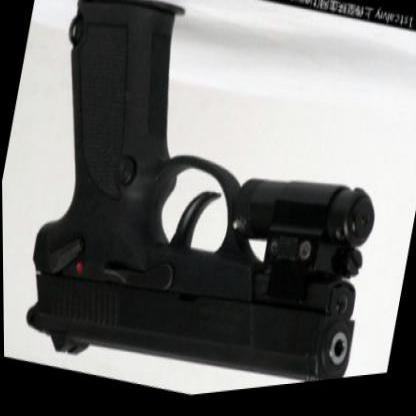pistol: (8, 0, 410, 412)
